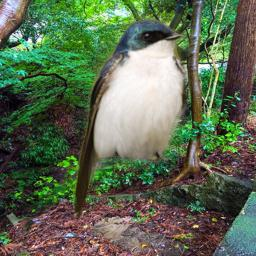Swallow: (73, 11, 193, 220)
